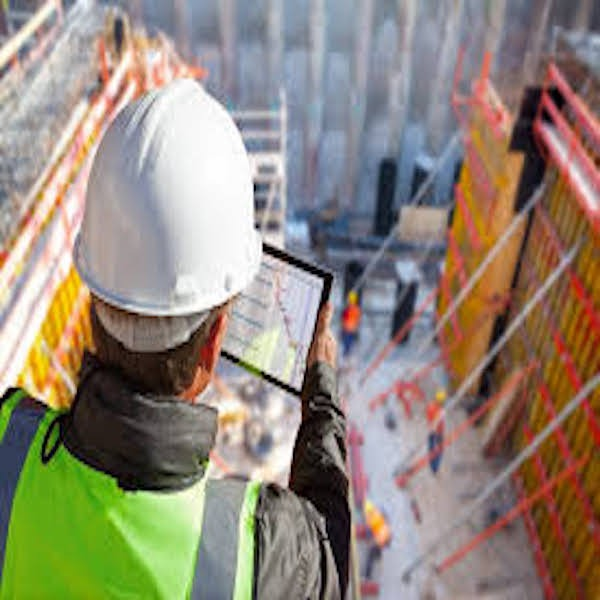helmet: (77, 76, 260, 307)
vest: (2, 418, 277, 600)
